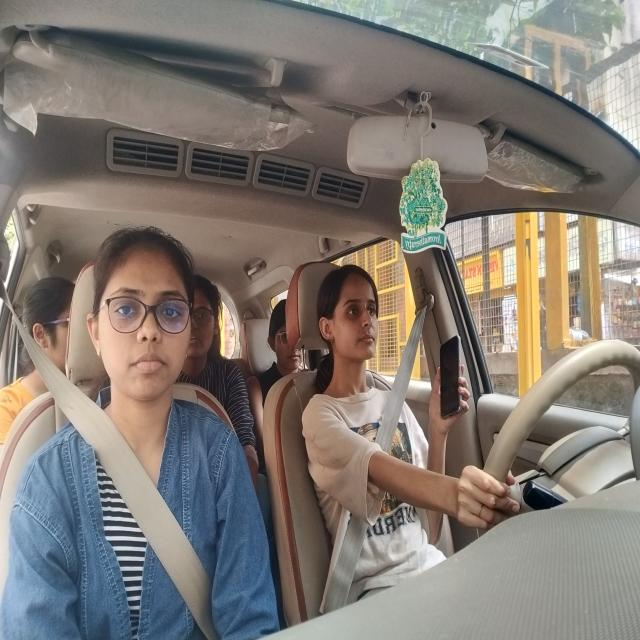mobile: (436, 330, 464, 423)
person: (87, 224, 198, 402), (319, 268, 384, 374), (18, 270, 76, 380), (192, 262, 228, 370), (268, 297, 306, 377)
